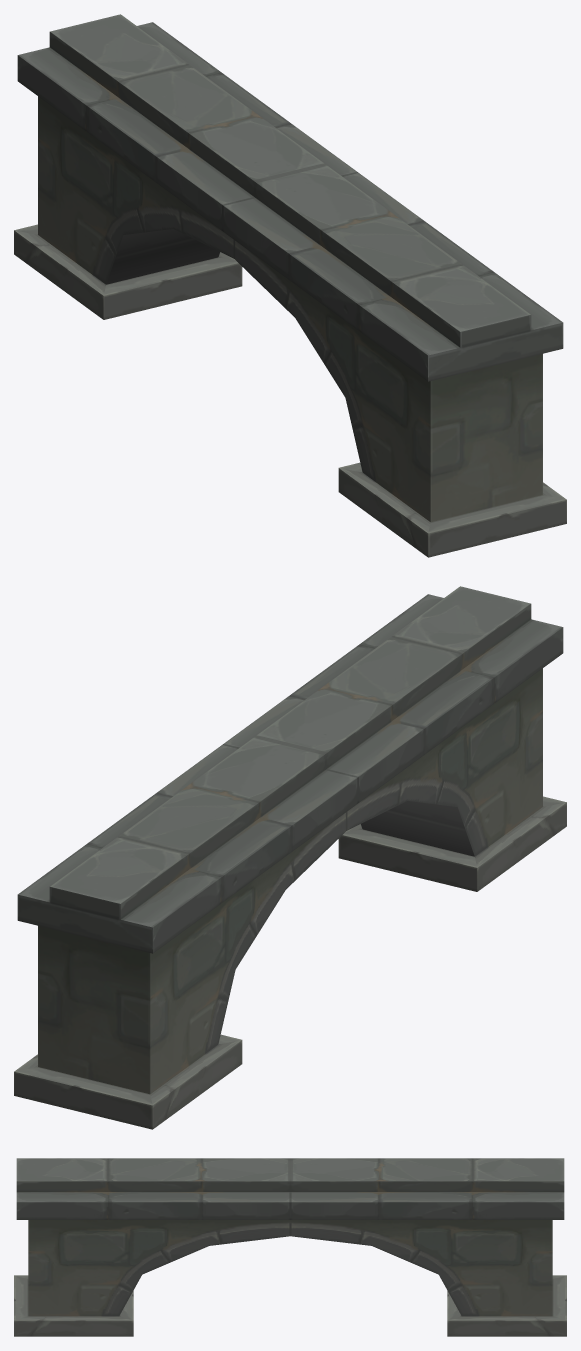
File: sc_dungeon_moshenta_zhuzi_002_e.FBX
The picture shows the model from 3 angles, top to bottom: view 1: azimuth 30°, elevation 25°; view 2: azimuth 150°, elevation 25°; view 3: azimuth 270°, elevation 25°; orthographic projection. The views are drawn at different scales.
Parts seen in each view (by area): view 1: sc_dungeon_moshenta_zhuzi_002_e; view 2: sc_dungeon_moshenta_zhuzi_002_e; view 3: sc_dungeon_moshenta_zhuzi_002_e.
Part boxes in pixels (x1=…): sc_dungeon_moshenta_zhuzi_002_e: x1=14, y1=14, x2=566, y2=557; sc_dungeon_moshenta_zhuzi_002_e: x1=14, y1=586, x2=566, y2=1129; sc_dungeon_moshenta_zhuzi_002_e: x1=14, y1=1158, x2=566, y2=1336.
Bounding box in the file's own units: 1.79 × 9.24 × 2.66.
Materials: 1 (1 with a texture image).
